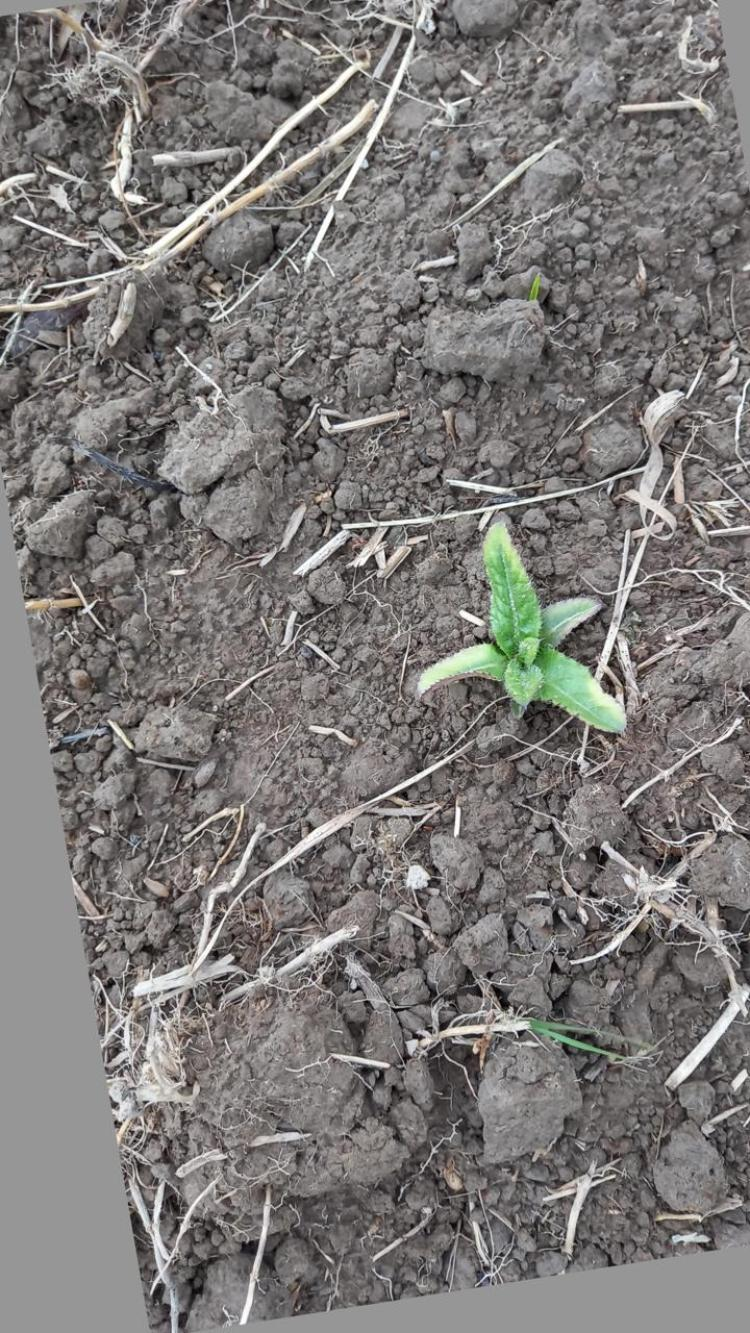bodyak: (404, 512, 636, 773)
